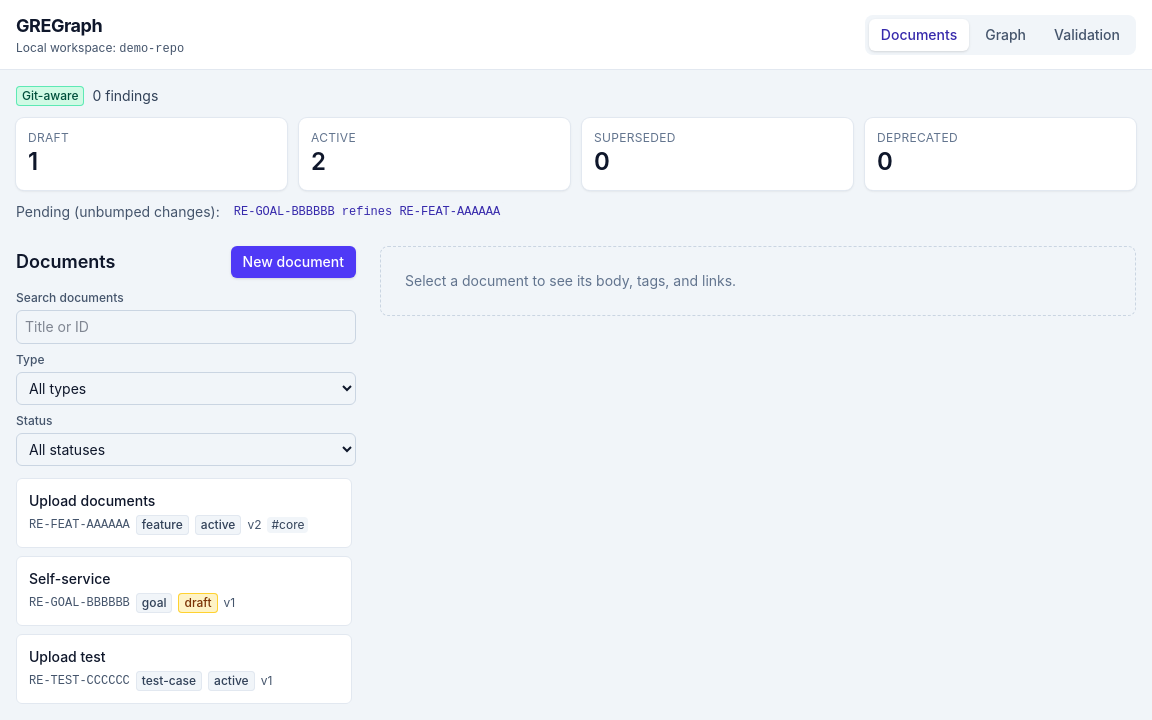
App status labels › opens the source document of a pending link label
Step 1. Click the button "RE-GOAL-BBBBBB refines RE-FEAT-AAAAAA" → {"x": 367, "y": 212}, box [228,202,506,222]
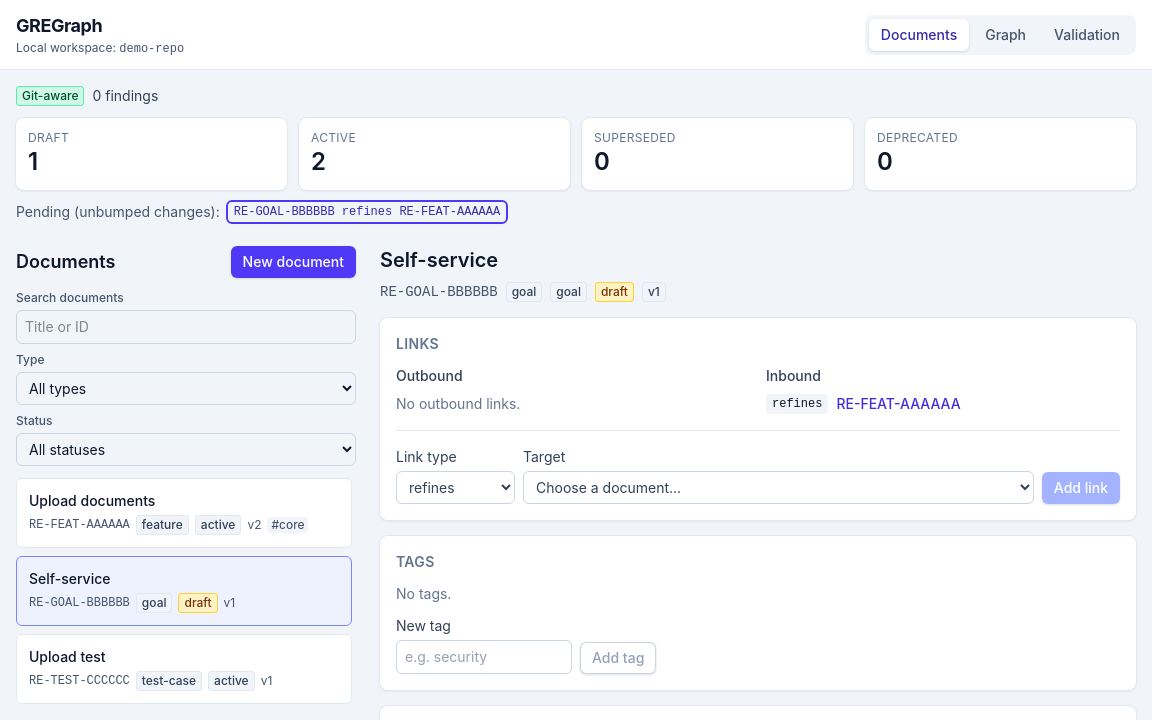
Check: the heading "Self-service" is shown, box [380,248,498,272]
